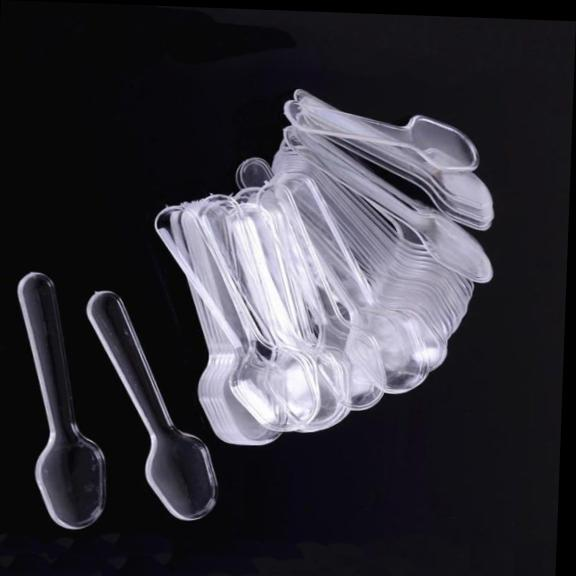Plastik: (155, 207, 318, 431), (285, 128, 492, 282), (87, 292, 216, 520), (285, 102, 492, 229), (17, 273, 105, 529), (299, 94, 478, 171)
